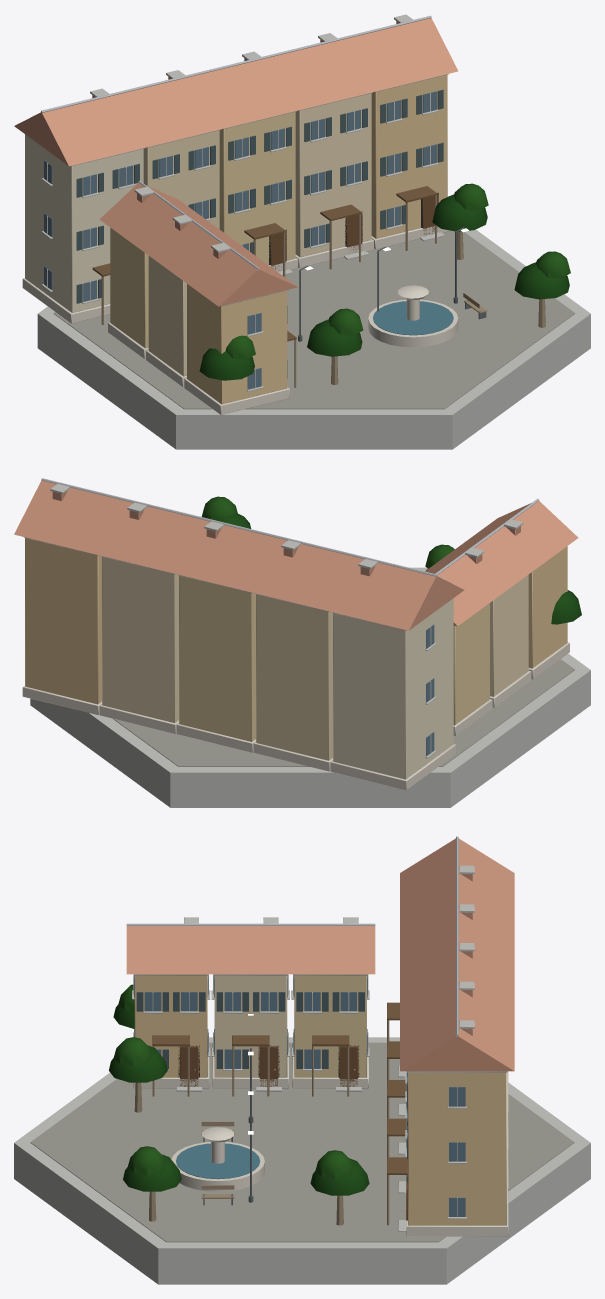
File: residential_med.glb
3 renders of one model, top to bottom at view 1: azimuth 30°, elevation 25°; view 2: azimuth 150°, elevation 25°; view 3: azimuth 270°, elevation 25°, orthographic. The views are drawn at different scales.
Visible parts, largest first — view 1: plaster, roof_tile, pavers, wall_concrete, wood, glass, leaf, stone, metal, steel_dark; view 2: plaster, roof_tile, wall_concrete, stone, pavers, leaf, metal, brick, glass; view 3: pavers, roof_tile, wall_concrete, plaster, wood, leaf, stone, glass, metal.
Part boxes in pixels (x1,y1,x2,y2): plaster: (25, 74, 447, 404); roof_tile: (14, 18, 457, 306); pavers: (53, 230, 575, 409); wall_concrete: (37, 14, 590, 449); wood: (76, 89, 545, 387); glass: (44, 91, 453, 389); leaf: (199, 183, 570, 380); stone: (22, 226, 458, 414); metal: (41, 15, 431, 270); steel_dark: (298, 227, 486, 347); plaster: (25, 538, 567, 779); roof_tile: (14, 480, 578, 630); wall_concrete: (24, 484, 590, 807); stone: (22, 642, 569, 790); pavers: (113, 659, 574, 766); leaf: (201, 496, 581, 624); metal: (41, 478, 539, 576); brick: (52, 490, 520, 576); glass: (426, 624, 434, 756); pavers: (30, 1042, 574, 1242); roof_tile: (126, 838, 514, 1071); wall_concrete: (14, 865, 590, 1284); plaster: (134, 975, 506, 1225); wood: (134, 992, 407, 1225); leaf: (109, 984, 369, 1195); stone: (133, 1043, 508, 1236); glass: (134, 975, 465, 1216); metal: (126, 836, 458, 1036).
Size of the model in its own units: 21.3 by 11.36 by 24.6.
